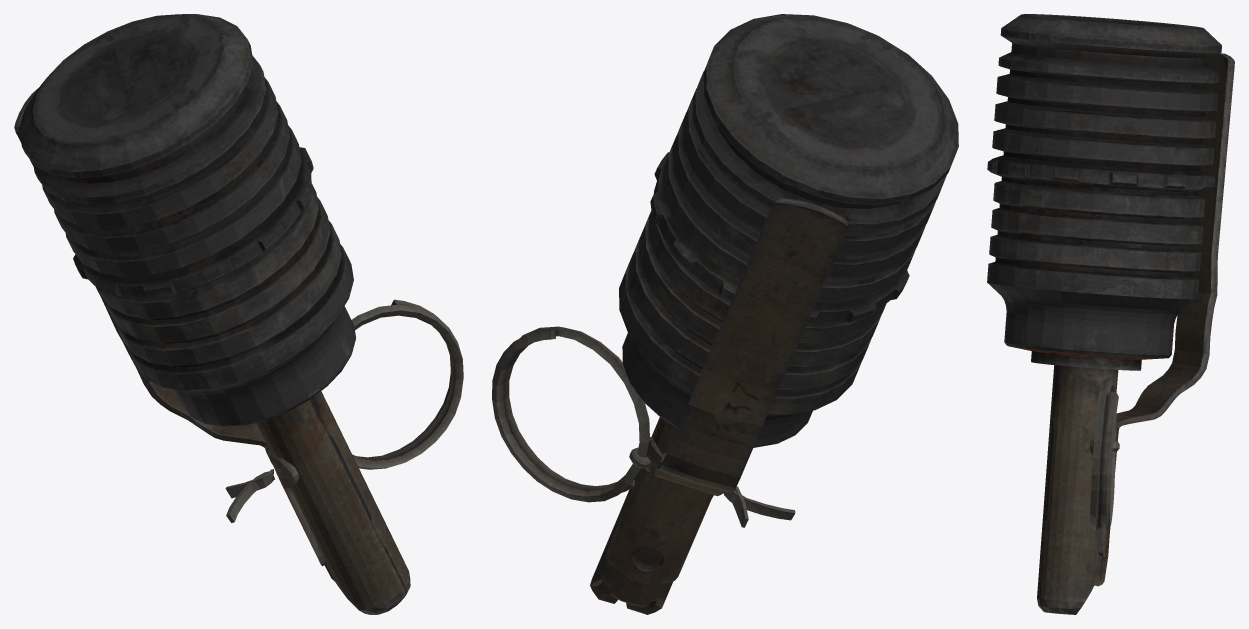
3 renders of one model, left to right at view 1: azimuth 30°, elevation 25°; view 2: azimuth 150°, elevation 25°; view 3: azimuth 270°, elevation 25°, orthographic. The views are drawn at different scales.
Visible parts, largest first — view 1: TW_5e340dcdcb6d5863cc5e5efb_PZ_Import; view 2: TW_5e340dcdcb6d5863cc5e5efb_PZ_Import; view 3: TW_5e340dcdcb6d5863cc5e5efb_PZ_Import.
Boxes of the visible parts, left/top/right/bottom form: TW_5e340dcdcb6d5863cc5e5efb_PZ_Import: left=14, top=14, right=463, bottom=614; TW_5e340dcdcb6d5863cc5e5efb_PZ_Import: left=492, top=14, right=958, bottom=614; TW_5e340dcdcb6d5863cc5e5efb_PZ_Import: left=987, top=14, right=1234, bottom=614.
Bounding box in the file's own units: 0.0448 × 0.0257 × 0.0611.
Materials: 1 (1 with a texture image).
